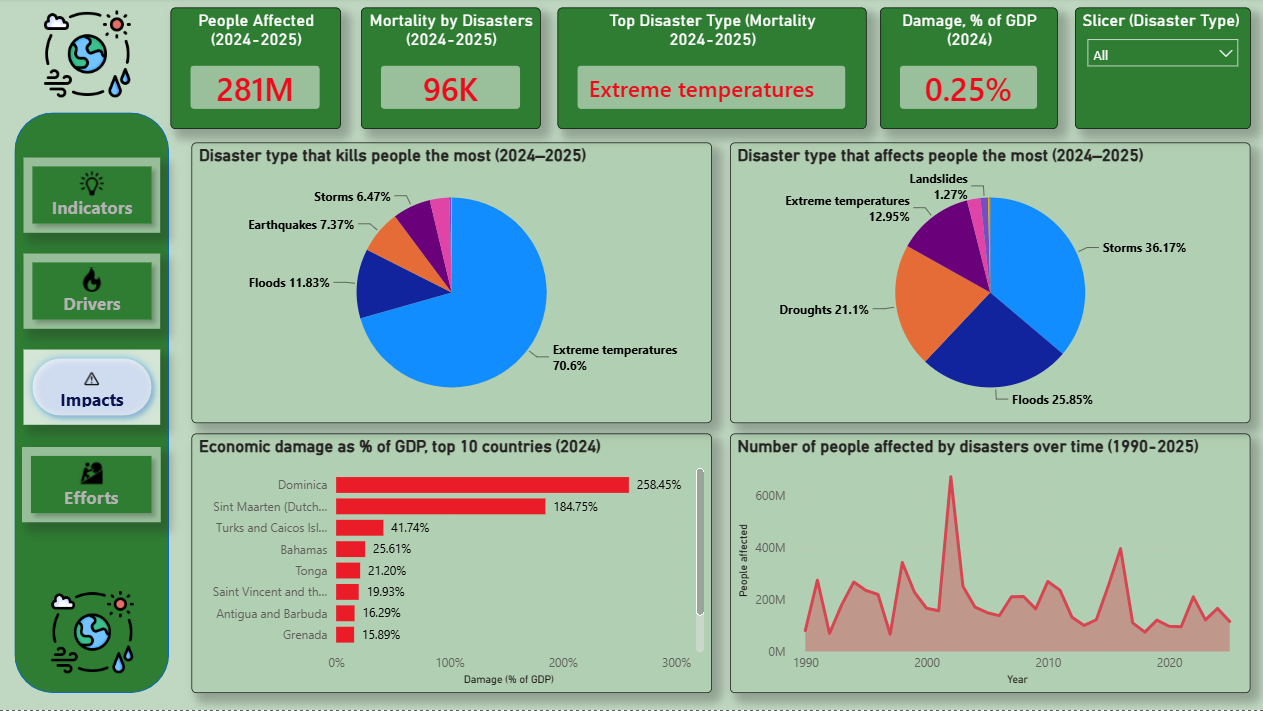

What the dashboard file says about the page in this screenshot:
{"tool":"powerbi","page":{"name":"Impacts","canvas":[1280,720],"ordinal":2},"visuals":[{"type":"shape","box":[16.7,116.6,156,586],"z":0},{"type":"actionButton","box":[26.2,355.7,138.3,75.7],"z":0,"group":"g1"},{"type":"actionButton","box":[26.2,161.6,138.3,75.7],"z":1000,"group":"g1"},{"type":"image","box":[36.3,598.1,118.1,86.3],"z":1000},{"type":"image","box":[7.6,12.1,165,90.9],"z":2000},{"type":"actionButton","box":[26.2,258.6,138.3,75.7],"z":2000,"group":"g1"},{"type":"group","id":"g1","title":"Group 1","box":[24.5,161.6,140,367.4],"z":3000},{"type":"actionButton","box":[24.5,453.3,139.7,75.7],"z":3000,"group":"g1"},{"type":"cardVisual","title":"People Affected (2024-2025)","fields":{"Data":["annual-number-of-people-affected-by-all-natural-disasters.2024-2025 People Affected"]},"box":[173.9,11.3,172,122.8],"z":4000},{"type":"cardVisual","title":"Mortality by Disasters (2024-2025)","fields":{"Data":["annual-deaths-from-all-natural-disasters.2024-2025 Deaths"]},"box":[366.6,11.3,181.4,122.8],"z":5000},{"type":"cardVisual","title":"Damage, % of GDP (2024)","fields":{"Data":["annual-economic-damages-from-all-natural-disasters-as-a-share-of-gdp.Latest Damage % GDP"]},"box":[890.1,11.3,179.5,122.8],"z":6000},{"type":"cardVisual","title":"Top Disaster Type (Mortality 2024-2025)","fields":{"Data":["annual-deaths-by-type.Top Disaster Type"]},"box":[565,11.3,311.8,122.8],"z":7000},{"type":"pieChart","title":"Disaster type that kills people the most (2024–2025)","fields":{"Category":["annual-deaths-by-type.Disaster Type"],"Y":["annual-deaths-by-type.Total Deaths"]},"box":[194.6,147.4,525.4,283.5],"z":8000},{"type":"pieChart","title":"Disaster type that affects people the most (2024–2025)","fields":{"Category":["annual-affected-by-type.Disaster Type"],"Y":["annual-affected-by-type.Total People Affected"]},"box":[738.9,147.4,525.4,283.5],"z":9000},{"type":"clusteredBarChart","title":"Economic damage as % of GDP, top 10 countries (2024)","fields":{"Category":["gdp-damage-by-country.Entity"],"Y":["gdp-damage-by-country.Latest Damage % GDP by Country"]},"box":[195,441,525.5,262],"z":10000},{"type":"slicer","title":"Slicer (Disaster Type)","fields":{"Values":["DisasterTypeTable.Disaster Type"]},"box":[1086.6,11.3,177.6,122.8],"z":11000},{"type":"lineChart","title":"Number of people affected by disasters over time (1990-2025)","fields":{"Category":["annual-number-of-people-affected-by-all-natural-disasters.Year"],"Y":["annual-number-of-people-affected-by-all-natural-disasters.People Affected (All disasters)"]},"box":[739.4,441,525.5,262],"z":12000}]}

Visuals, with their boxes in screenshot pixels (x1, y1, x2, y2), scaled from the page's 1280x720 canvas onto the 1263x711 screenshot:
shape: {"left": 16, "top": 115, "right": 170, "bottom": 694}
actionButton: {"left": 26, "top": 351, "right": 162, "bottom": 426}
actionButton: {"left": 26, "top": 160, "right": 162, "bottom": 234}
image: {"left": 36, "top": 591, "right": 152, "bottom": 676}
image: {"left": 7, "top": 12, "right": 170, "bottom": 102}
actionButton: {"left": 26, "top": 255, "right": 162, "bottom": 330}
"Group 1" group: {"left": 24, "top": 160, "right": 162, "bottom": 522}
actionButton: {"left": 24, "top": 448, "right": 162, "bottom": 522}
"People Affected (2024-2025)" cardVisual: {"left": 172, "top": 11, "right": 341, "bottom": 132}
"Mortality by Disasters (2024-2025)" cardVisual: {"left": 362, "top": 11, "right": 541, "bottom": 132}
"Damage, % of GDP (2024)" cardVisual: {"left": 878, "top": 11, "right": 1055, "bottom": 132}
"Top Disaster Type (Mortality 2024-2025)" cardVisual: {"left": 557, "top": 11, "right": 865, "bottom": 132}
"Disaster type that kills people the most (2024–2025)" pieChart: {"left": 192, "top": 146, "right": 710, "bottom": 426}
"Disaster type that affects people the most (2024–2025)" pieChart: {"left": 729, "top": 146, "right": 1248, "bottom": 426}
"Economic damage as % of GDP, top 10 countries (2024)" clusteredBarChart: {"left": 192, "top": 435, "right": 711, "bottom": 694}
"Slicer (Disaster Type)" slicer: {"left": 1072, "top": 11, "right": 1247, "bottom": 132}
"Number of people affected by disasters over time (1990-2025)" lineChart: {"left": 730, "top": 435, "right": 1248, "bottom": 694}
